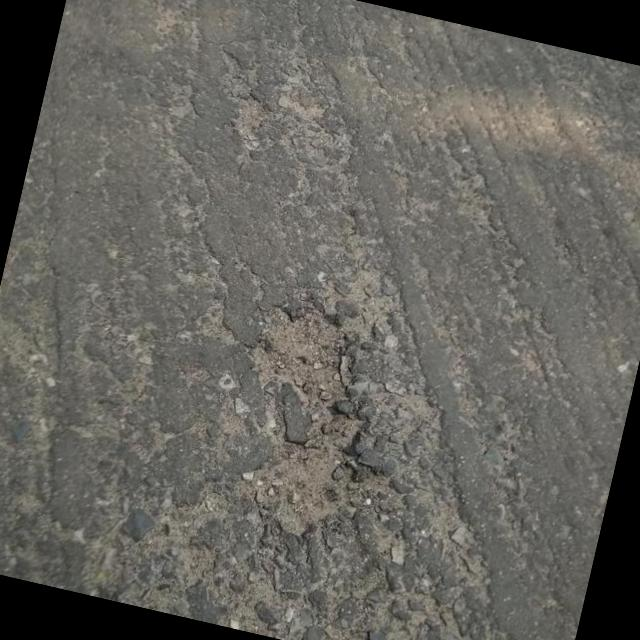pothole: (218, 296, 412, 550)
